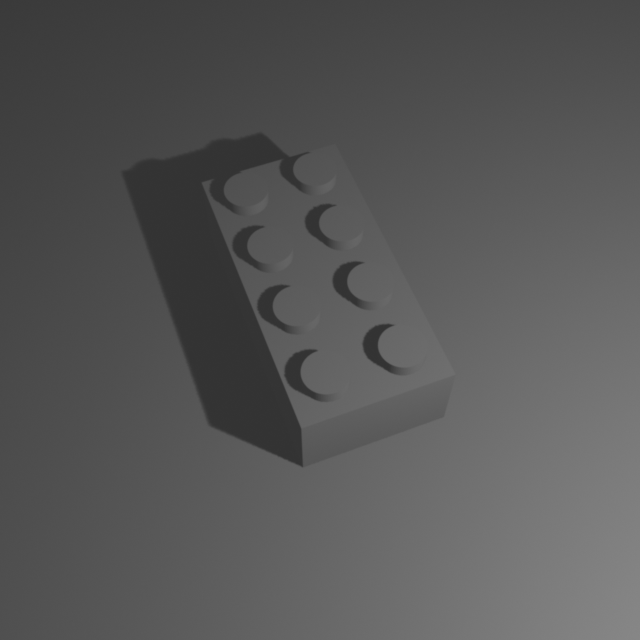lego_2x4: (200, 134, 458, 467)
